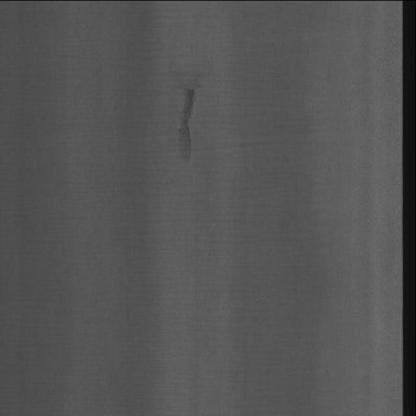water_spot: (166, 65, 214, 179)
